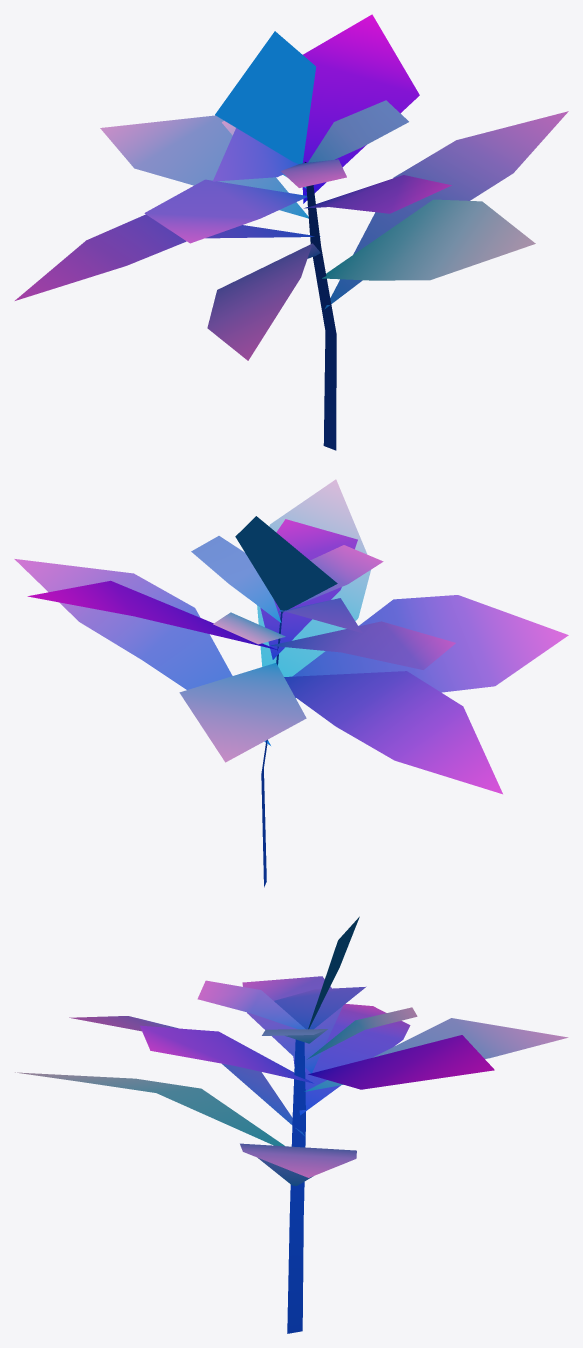
File: xefmcgrqx_VarB_LOD2.fbx
3 views of the same model, one above another, from view 1: azimuth 30°, elevation 25°; view 2: azimuth 150°, elevation 25°; view 3: azimuth 270°, elevation 25° (orthographic).
Parts seen in each view (by area): view 1: _3r9x_VarB_LOD5; view 2: _3r9x_VarB_LOD5; view 3: _3r9x_VarB_LOD5.
Boxes of the visible parts, x1,y1,x2,y2 form: _3r9x_VarB_LOD5: (15, 14, 568, 450); _3r9x_VarB_LOD5: (14, 479, 568, 887); _3r9x_VarB_LOD5: (15, 916, 568, 1333).
Size of the model in its own units: 40.15 by 29.3 by 36.36.
